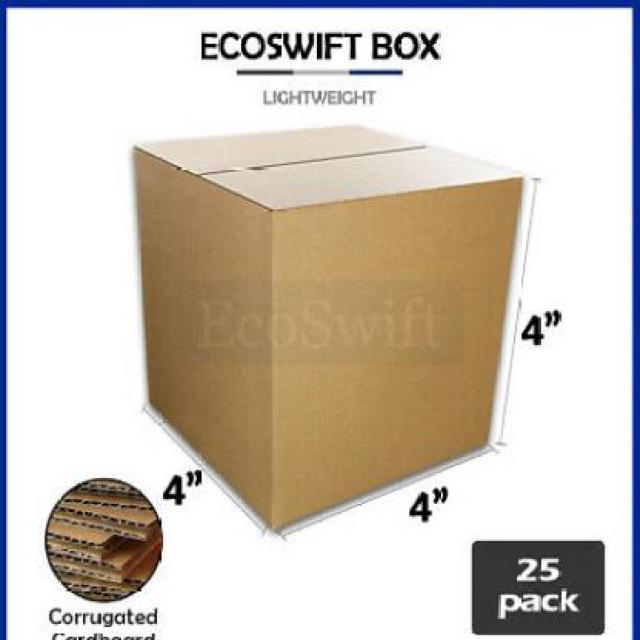box: (118, 115, 540, 549)
